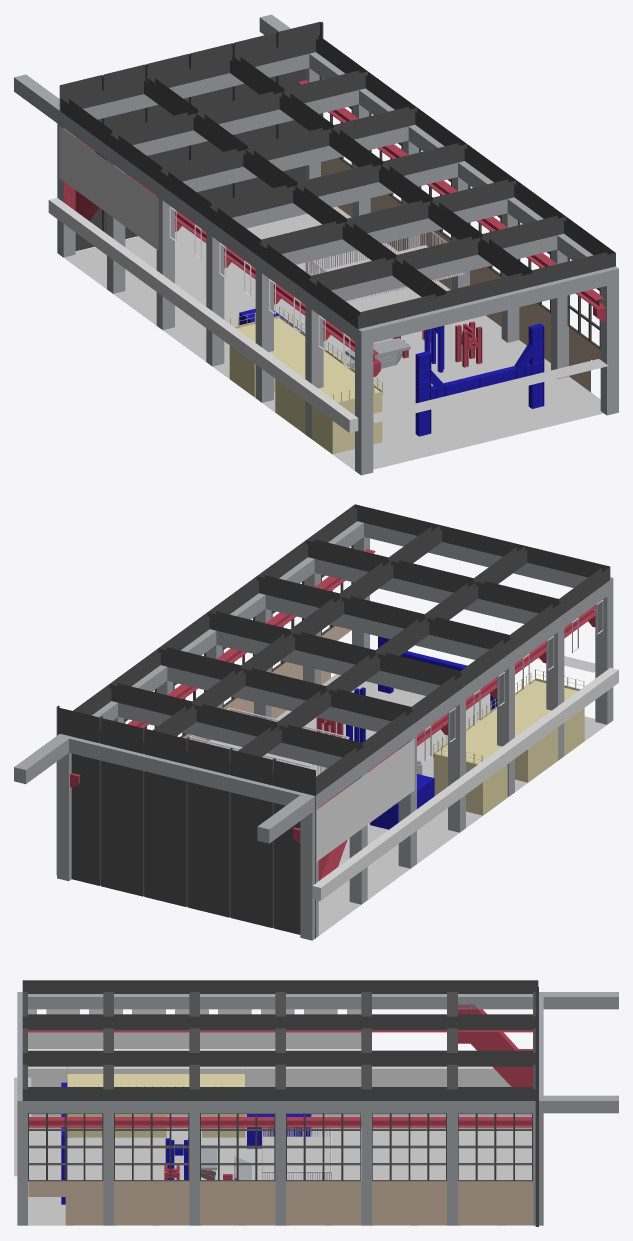
File: CannonLevel.glb
3 renders of one model, top to bottom at view 1: azimuth 30°, elevation 25°; view 2: azimuth 150°, elevation 25°; view 3: azimuth 270°, elevation 25°, orthographic. The views are drawn at different scales.
Visible parts, largest first — view 1: Ceiling.001, Pillar.001, Floor.001, UpperWallPanels.001, BackWalls.001, SmallRooms.001, BigFrame.001, RightWall.001, PillarFrames.001, Platform.005, Platform.002, Plane.001 (+3 smaller); view 2: Ceiling.001, Pillar.001, BackWalls.001, UpperWallPanels.001, SmallRooms.001, Floor.001, PillarFrames.001, RightWall.001, Platform.002, Container.001, BigFrame.001; view 3: Ceiling.001, Pillar.001, RightWall.001, Floor.001, UpperWallPanels.001, Plane.001, PillarFrames.001, SmallRooms.001, Platform.002, Cube.001, BackWalls.001, Container.001 (+3 smaller).
Boxes of the visible parts, x1,y1,x2,y2 form: Ceiling.001: [60, 35, 615, 329]; Pillar.001: [14, 14, 618, 475]; Floor.001: [64, 206, 603, 470]; UpperWallPanels.001: [48, 126, 358, 432]; BackWalls.001: [59, 21, 323, 254]; SmallRooms.001: [229, 306, 382, 454]; BigFrame.001: [415, 323, 544, 436]; RightWall.001: [321, 158, 600, 392]; PillarFrames.001: [75, 80, 605, 376]; Platform.005: [373, 359, 608, 422]; Platform.002: [305, 231, 465, 302]; Plane.001: [319, 76, 600, 349]; Ceiling.001: [73, 504, 610, 794]; Pillar.001: [14, 521, 613, 940]; BackWalls.001: [56, 705, 315, 938]; UpperWallPanels.001: [312, 600, 618, 900]; SmallRooms.001: [433, 669, 584, 815]; Floor.001: [100, 674, 607, 935]; PillarFrames.001: [70, 549, 595, 842]; RightWall.001: [183, 626, 351, 742]; Platform.002: [189, 707, 349, 776]; Container.001: [370, 774, 434, 829]; BigFrame.001: [378, 636, 496, 710]; Ceiling.001: [22, 980, 538, 1100]; Pillar.001: [17, 992, 618, 1225]; RightWall.001: [28, 1181, 532, 1225]; Floor.001: [28, 1116, 532, 1225]; UpperWallPanels.001: [28, 1009, 531, 1116]; Plane.001: [28, 1113, 532, 1181]; PillarFrames.001: [28, 1030, 532, 1127]; SmallRooms.001: [67, 1066, 245, 1137]; Platform.002: [262, 1127, 331, 1179]; Cube.001: [458, 1004, 532, 1086]; BackWalls.001: [535, 987, 538, 1226]; Container.001: [247, 1114, 311, 1148].
Bounding box in the file's own units: 31.39 × 18.92 × 70.4.
